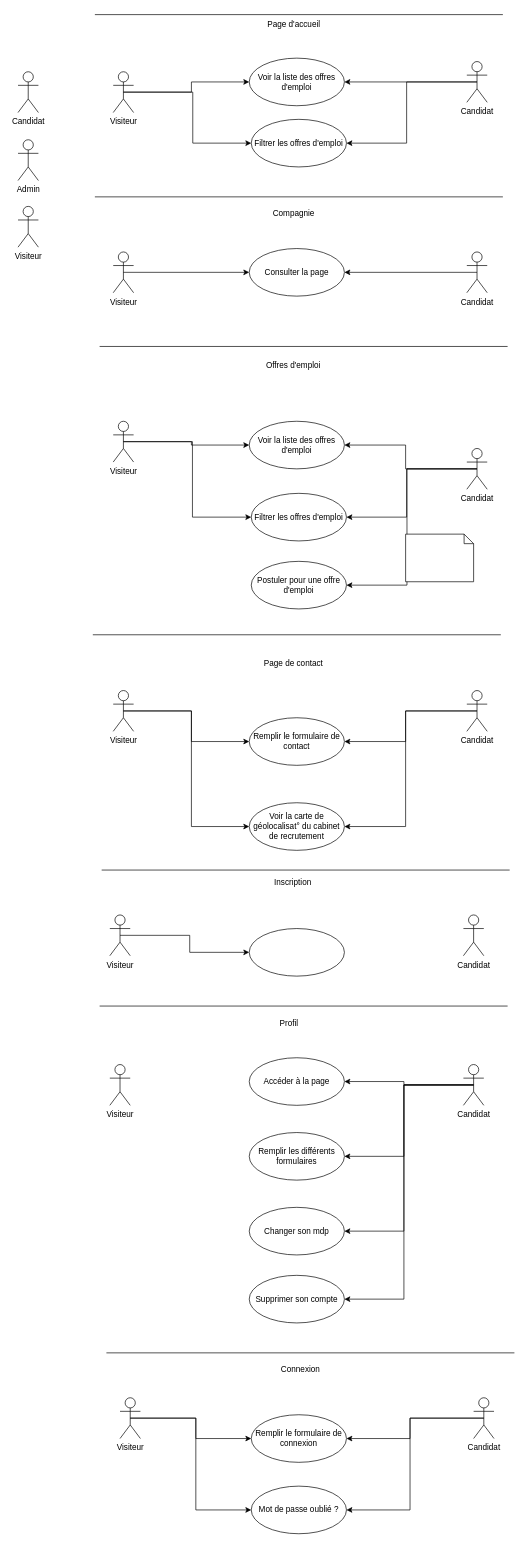
This 526x1546 diagram has some shape labels left out. The shapes that lost their labels are listed below. From the top down, each one's box as (x1, y1, x2, y2) in pixels, then its label:
(405, 533, 474, 582): Seulement si le profil du candidat est rempli à 100%
(249, 928, 344, 976): Remplir le formulaire d'inscription
